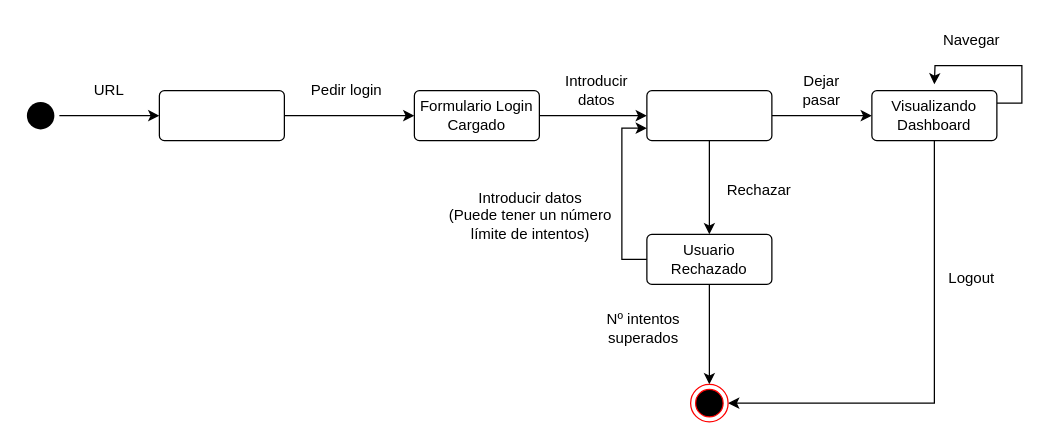
This 1054x444 diagram has some shape labels left out. Each missing label, with the centre of its shape:
Inicio Cargado: the point at 221,115
Usuario en validacion: the point at 709,115
